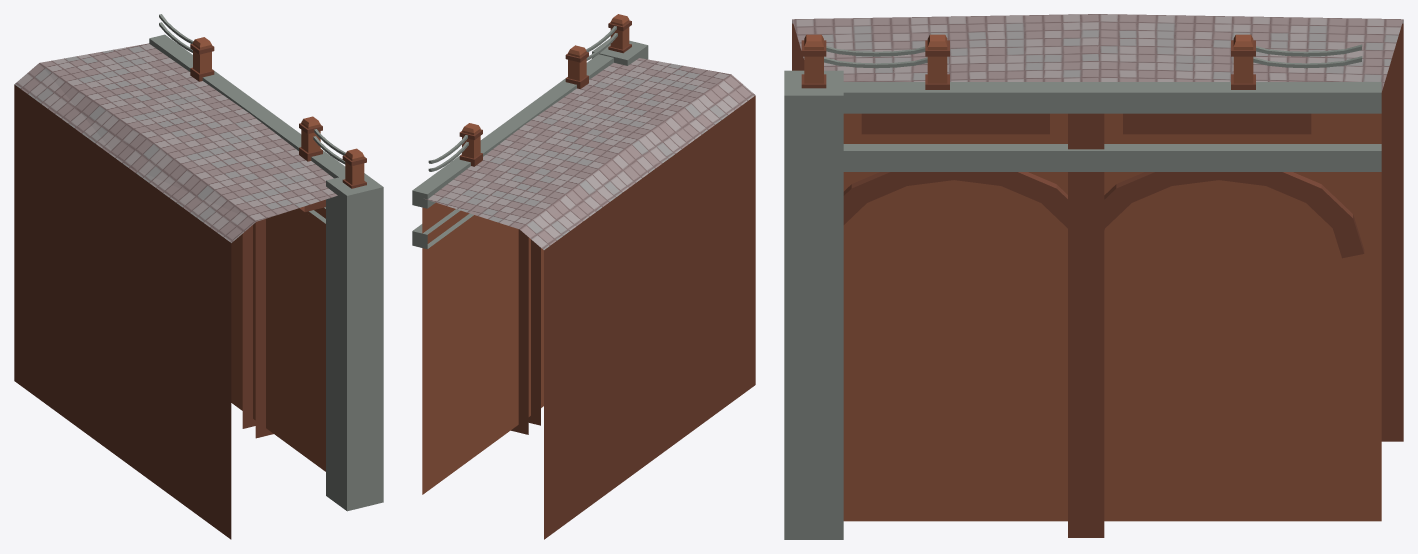
Rendered from RiverWallOpen.glb.
3 views of the same model, side by side, from view 1: azimuth 30°, elevation 25°; view 2: azimuth 150°, elevation 25°; view 3: azimuth 270°, elevation 25° (orthographic). The views are drawn at different scales.
Visible parts, largest first — view 1: Cube_049; view 2: Cube_049; view 3: Cube_049.
Part boxes in pixels (x1,y1,x2,y2): Cube_049: (14,14,383,539); Cube_049: (412,14,755,539); Cube_049: (784,14,1403,539).
Size of the model in its own units: 4.29 by 9.61 by 10.92.
2 materials, 2 textured.
